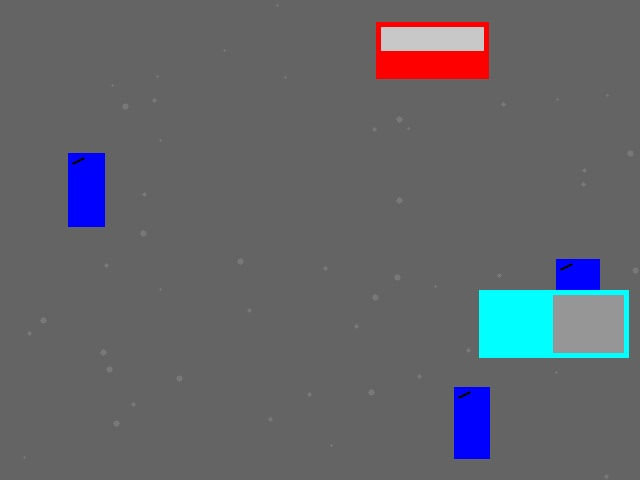car: (376, 22, 488, 78)
motorcycle: (556, 259, 599, 346), (68, 153, 104, 226), (454, 387, 489, 458)
truck: (479, 290, 628, 357)
